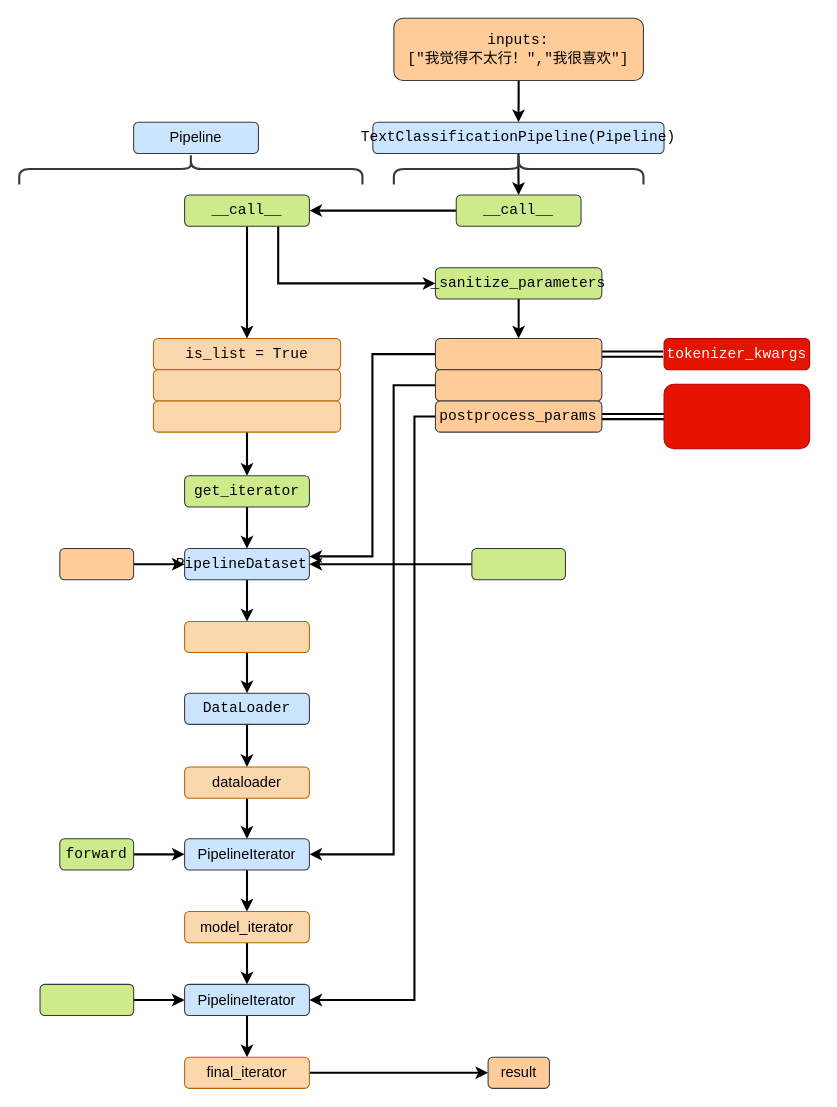
Image size: 837x1107. Some labels were removed from this diagram. The shapes that lost their labels are listed below. From the top down, each one's centre as x and y in pixels, then its label:
point (518, 353): preprocess_params
point (246, 385): is_iterable = True
point (518, 385): forward_params
point (246, 416): can_use_iterator = True
point (736, 416): "top_k", "_legacy", "function_to_apply"
point (96, 564): inputs
point (518, 564): preprocess
point (246, 636): dataset
point (86, 999): postprocess
